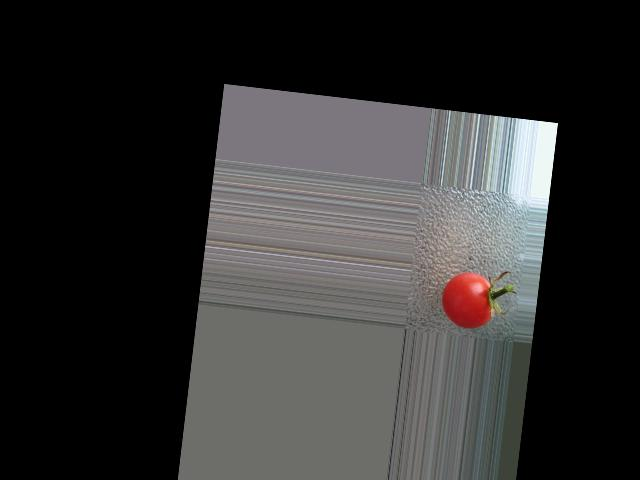tomato: (438, 268, 496, 330)
